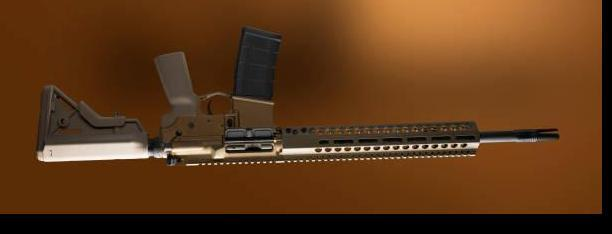larga: (36, 26, 561, 168)
